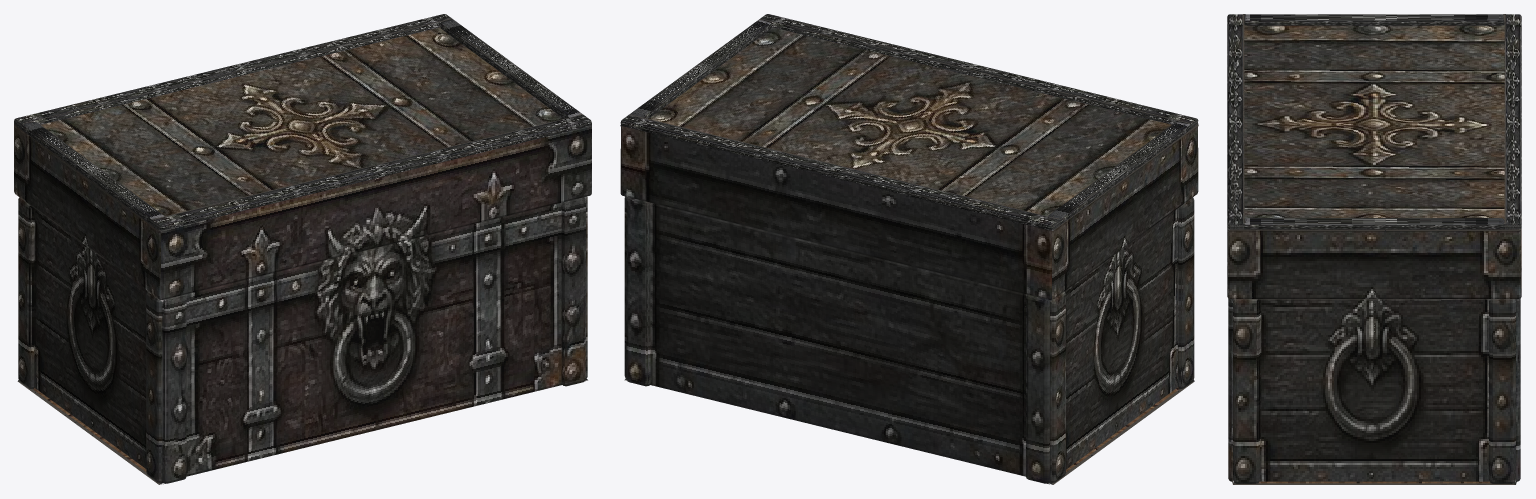
The model's file is chest_gilded_iron.glb.
3 renders of one model, left to right at view 1: azimuth 30°, elevation 25°; view 2: azimuth 150°, elevation 25°; view 3: azimuth 270°, elevation 25°, orthographic.
Visible parts, largest first — view 1: lid, body; view 2: lid, body; view 3: lid, body.
Part boxes in pixels (box(x1,y1,x2,y2)): lid: box(14, 14, 591, 299); body: box(17, 196, 587, 484); lid: box(620, 14, 1198, 299); body: box(624, 196, 1194, 484); lid: box(1227, 14, 1521, 298); body: box(1228, 298, 1520, 484).
Bounding box in the file's own units: 1.03 × 0.592 × 0.604.
Materials: 1 (1 with a texture image).
